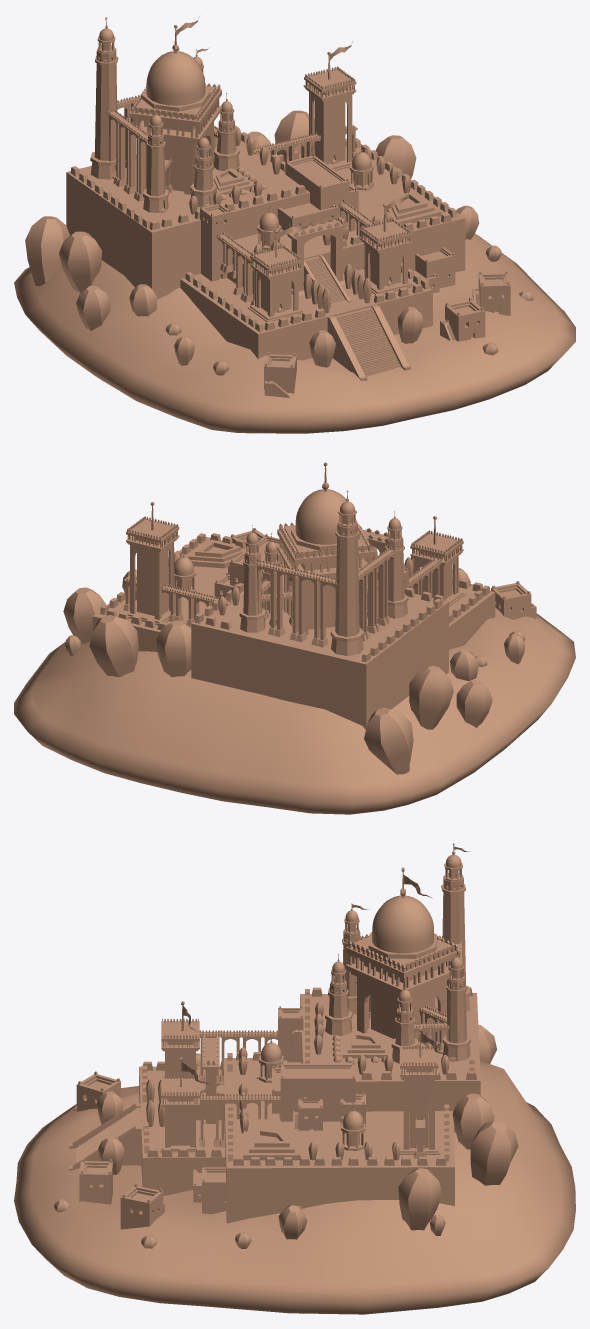
Rendered from GLB-test.glb.
3 views of the same model, one above another, from view 1: azimuth 30°, elevation 25°; view 2: azimuth 150°, elevation 25°; view 3: azimuth 270°, elevation 25° (orthographic). The views are drawn at different scales.
Visible parts, largest first — view 1: castle; view 2: castle; view 3: castle.
Boxes of the visible parts, <box> form: castle: <box>14,17,575,433</box>; castle: <box>14,462,575,814</box>; castle: <box>14,843,575,1314</box>.
Bounding box in the file's own units: 23901 × 15383 × 25707.
